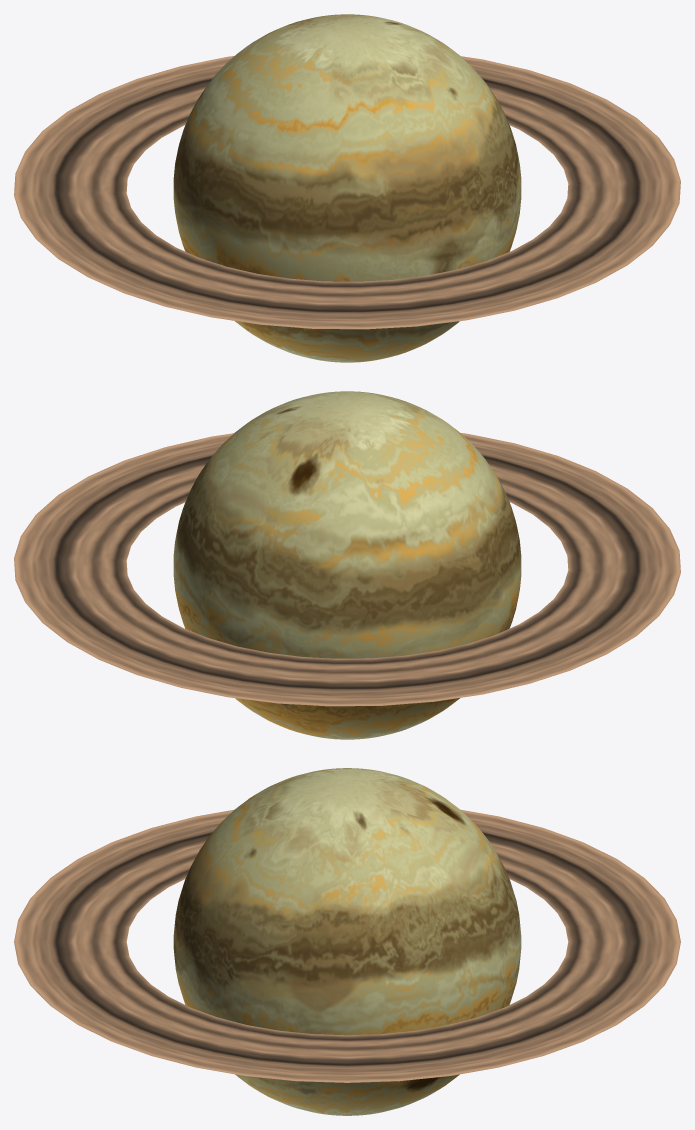
The model's file is planet1.fbx.
3 views of the same model, one above another, from view 1: azimuth 30°, elevation 25°; view 2: azimuth 150°, elevation 25°; view 3: azimuth 270°, elevation 25° (orthographic).
Visible parts, largest first — view 1: planet, rings; view 2: planet, rings; view 3: planet, rings.
Boxes of the visible parts, bbox=[...] form: planet: bbox=[173, 14, 521, 362]; rings: bbox=[14, 56, 680, 329]; planet: bbox=[173, 391, 521, 739]; rings: bbox=[14, 433, 680, 706]; planet: bbox=[173, 768, 521, 1115]; rings: bbox=[14, 810, 680, 1082].
Size of the model in its own units: 192 by 100 by 192.
2 materials, 2 textured.
